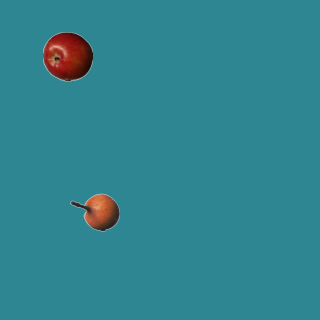Apple Braeburn: (42, 31, 92, 81)
Granadilla: (69, 187, 119, 237)
